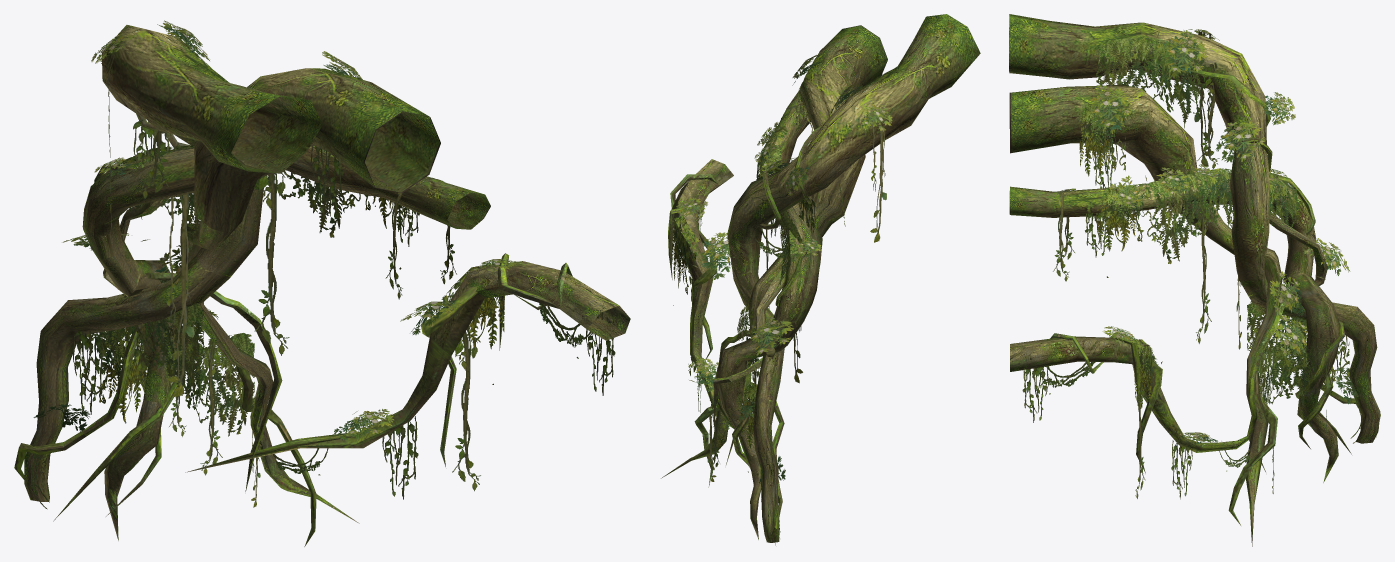
The model's file is 4007_Item_shu_2.FBX.
The picture shows the model from 3 angles, left to right: view 1: azimuth 30°, elevation 25°; view 2: azimuth 150°, elevation 25°; view 3: azimuth 270°, elevation 25°; orthographic projection. The views are drawn at different scales.
Parts seen in each view (by area): view 1: 4007_Item_shu_2; view 2: 4007_Item_shu_2; view 3: 4007_Item_shu_2.
Boxes of the visible parts, x1=… form: 4007_Item_shu_2: x1=14, y1=20, x2=630, y2=546; 4007_Item_shu_2: x1=661, y1=14, x2=980, y2=545; 4007_Item_shu_2: x1=1009, y1=14, x2=1380, y2=546.
Size of the model in its own units: 162 by 235 by 177.
